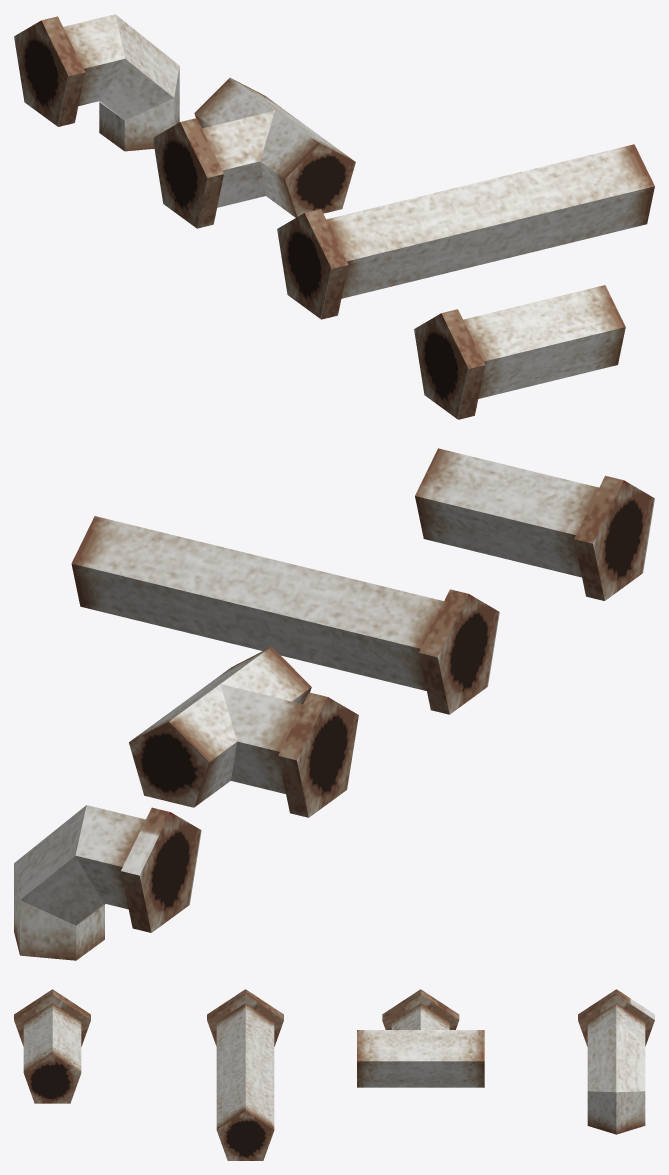
File: Pipes.glb
3 views of the same model, one above another, from view 1: azimuth 30°, elevation 25°; view 2: azimuth 150°, elevation 25°; view 3: azimuth 270°, elevation 25° (orthographic). The views are drawn at different scales.
Visible parts, largest first — view 1: Pipe Long, Pipe T, Pipe Short, Pipe Corner; view 2: Pipe Long, Pipe T, Pipe Short, Pipe Corner; view 3: Pipe Long, Pipe T, Pipe Corner, Pipe Short.
Boxes of the visible parts, x1=… form: Pipe Long: x1=277, y1=144, x2=654, y2=319; Pipe T: x1=153, y1=77, x2=355, y2=228; Pipe Short: x1=414, y1=285, x2=625, y2=419; Pipe Corner: x1=14, y1=14, x2=179, y2=151; Pipe Long: x1=71, y1=516, x2=499, y2=714; Pipe T: x1=129, y1=646, x2=358, y2=817; Pipe Short: x1=415, y1=448, x2=654, y2=600; Pipe Corner: x1=14, y1=805, x2=201, y2=960; Pipe Long: x1=207, y1=989, x2=283, y2=1160; Pipe T: x1=357, y1=989, x2=484, y2=1087; Pipe Corner: x1=578, y1=989, x2=654, y2=1134; Pipe Short: x1=14, y1=989, x2=90, y2=1103.
Bounding box in the file's own units: 0.9937 × 0.4 × 2.37.
Materials: 1 (1 with a texture image).
